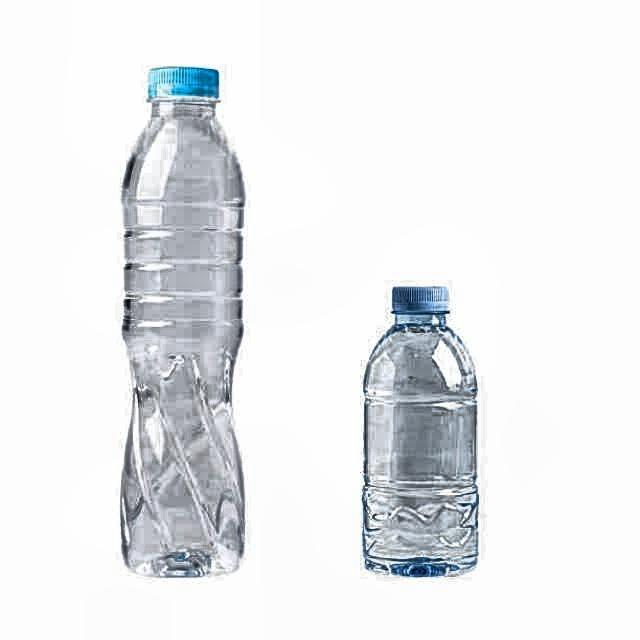plastic: (118, 64, 250, 581), (359, 281, 483, 581)
